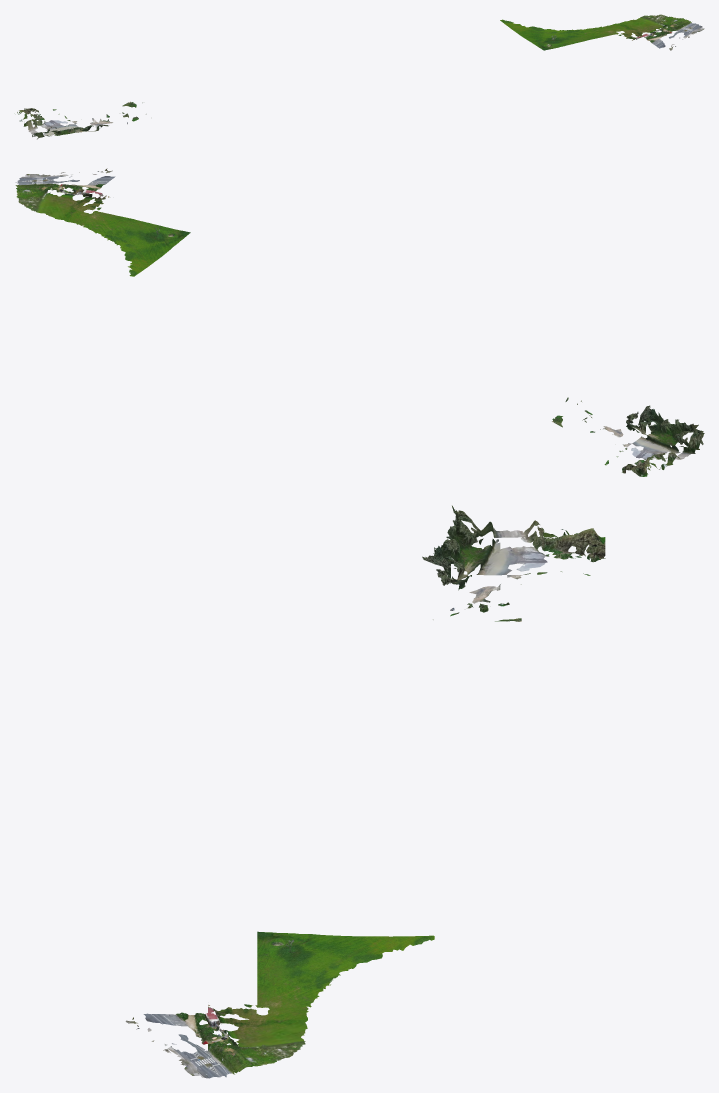
File: bairro_07.glb
3 views of the same model, one above another, from view 1: azimuth 30°, elevation 25°; view 2: azimuth 150°, elevation 25°; view 3: azimuth 270°, elevation 25° (orthographic). The views are drawn at different scales.
Visible parts, largest first — view 1: bairro_07; view 2: bairro_07; view 3: bairro_07.
Part boxes in pixels (x1=…): bairro_07: x1=17, y1=14, x2=704, y2=139; bairro_07: x1=15, y1=168, x2=704, y2=476; bairro_07: x1=125, y1=505, x2=605, y2=1078.
Bounding box in the file's own units: 557 × 24.44 × 198.
1 material, 1 textured.
